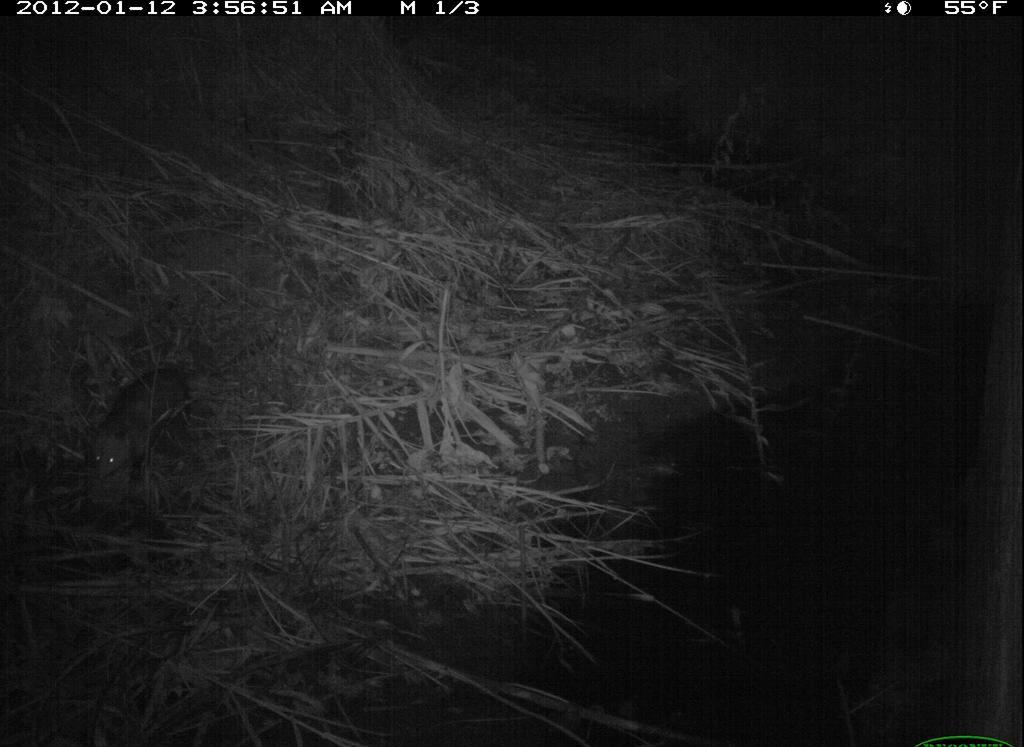opossum: (82, 351, 207, 501)
